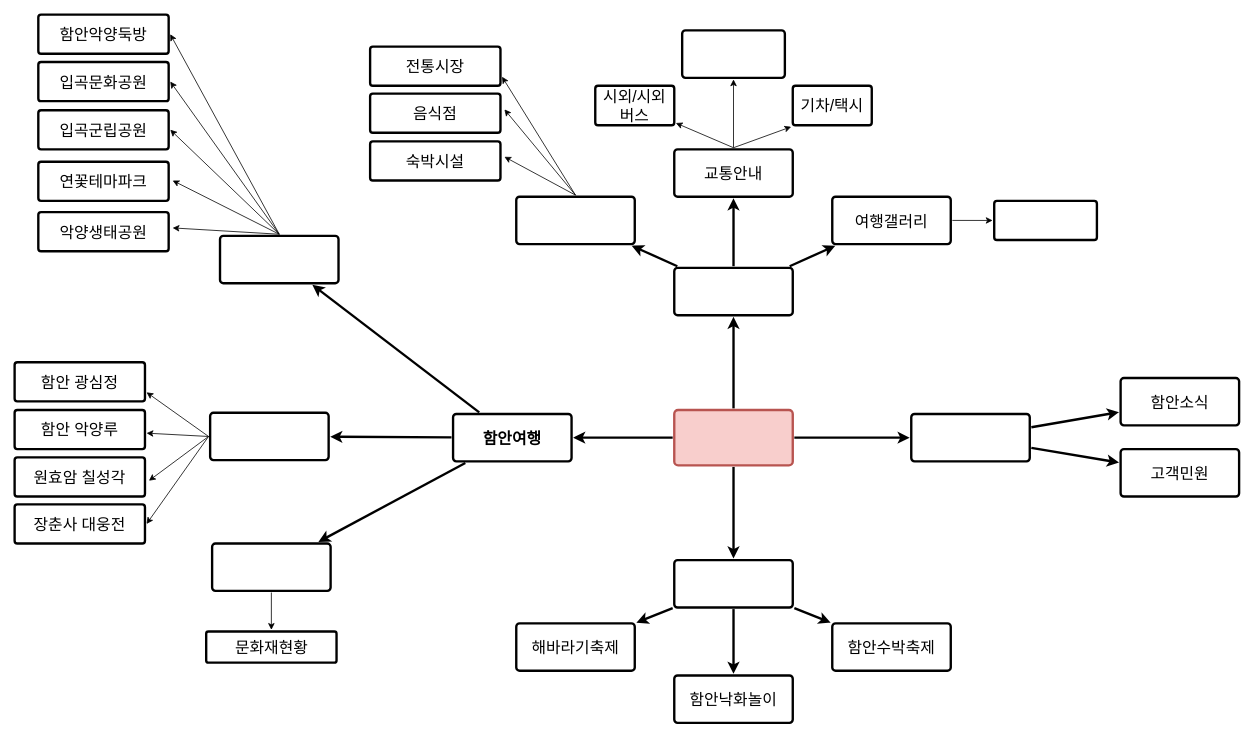
This 1254x738 diagram has some shape labels left out. Each missing label, with the centre of its shape:
"공영버스 농어촌버스" belongs at (x=733, y=54).
"공지사항" belongs at (x=970, y=437).
"관광안내" belongs at (x=733, y=291).
"관광지도" belongs at (x=575, y=220).
"문화재" belongs at (x=271, y=567).
"생태관광" belongs at (x=278, y=259).
"역사여행" belongs at (x=269, y=436).
"축제행사" belongs at (x=733, y=583).
"포토갤러리" belongs at (x=1045, y=220).
"함안문화관광" belongs at (x=733, y=437).
